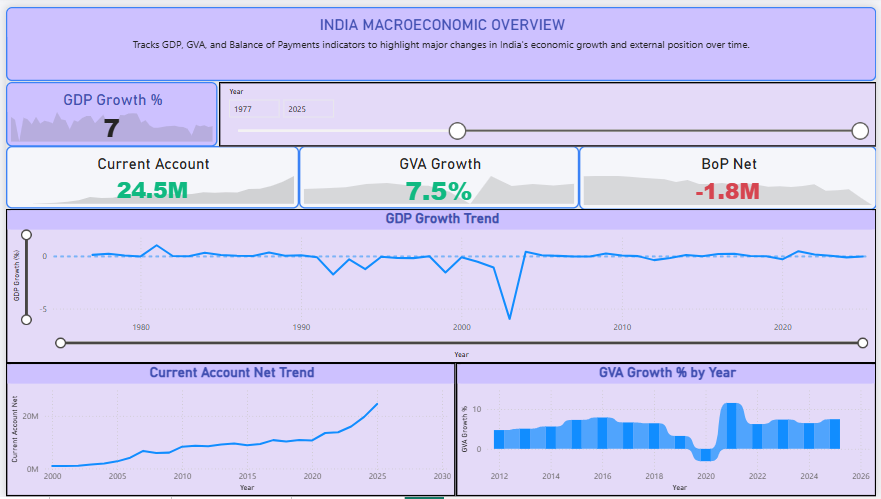

The dashboard page shown, as its layout file describes it:
{"tool":"powerbi","page":{"name":"Overview","canvas":[1280,720],"ordinal":0},"visuals":[{"type":"kpi","title":"GVA Growth","fields":{"TrendLine":["CPI.Year"],"Indicator":["CPI.GVA Growth % Display"]},"box":[662.7,92.5,301,105.1],"z":0},{"type":"kpi","title":"GDP Growth %","fields":{"TrendLine":["GDP.Year"],"Indicator":["GDP.GDP Growth % Display"]},"box":[22.4,91,310.3,104.7],"z":1000},{"type":"kpi","title":"Current Account","fields":{"Indicator":["India overall balance.Latest CA Net"],"TrendLine":["India overall balance.Year"]},"box":[340.3,94,301.1,104.7],"z":2000},{"type":"slicer","fields":{"Values":["India overall balance.Year"]},"box":[22.4,198.5,619.2,83.5],"z":3000},{"type":"kpi","title":"BoP Net","fields":{"Indicator":["India overall balance.Latest BoP Net"],"TrendLine":["India overall balance.Year"]},"box":[970.1,91,290.9,105.1],"z":4000},{"type":"lineChart","title":"GDP Growth Trend","fields":{"Y":["GDP.GDP Growth %"],"Category":["GDP.Year"]},"box":[174.6,282.1,963.4,240.5],"z":5000},{"type":"lineChart","title":"Current Account Net Trend","fields":{"Category":["India overall balance.Year"],"Y":["India overall balance.Current Account Net"]},"box":[20.2,524.2,619.2,184.3],"z":6000},{"type":"ribbonChart","fields":{"Y":["CPI.GVA Growth %"],"Category":["CPI.Year"]},"box":[661,524.2,619.2,184.3],"z":7000},{"type":"slicer","fields":{"Values":["FinYearTable.Year"]},"box":[661.2,198.5,601.9,83.5],"z":8000},{"type":"textbox","title":"INDIA MACROECONOMIC OVERVIEW","box":[211.9,0,806,109],"z":9000}]}

Visuals, with their boxes in screenshot pixels (x1, y1, x2, y2), scaled from the page's 1280x720 canvas onto the 881x499 screenshot:
"GVA Growth" kpi: [456,64,663,137]
"GDP Growth %" kpi: [15,63,229,136]
"Current Account" kpi: [234,65,441,138]
slicer - India overall balance.Year: [15,138,442,195]
"BoP Net" kpi: [668,63,868,136]
"GDP Growth Trend" lineChart: [120,196,783,362]
"Current Account Net Trend" lineChart: [14,363,440,491]
ribbonChart - CPI.GVA Growth % x CPI.Year: [455,363,880,491]
slicer - FinYearTable.Year: [455,138,869,195]
"INDIA MACROECONOMIC OVERVIEW" textbox: [146,0,701,76]
